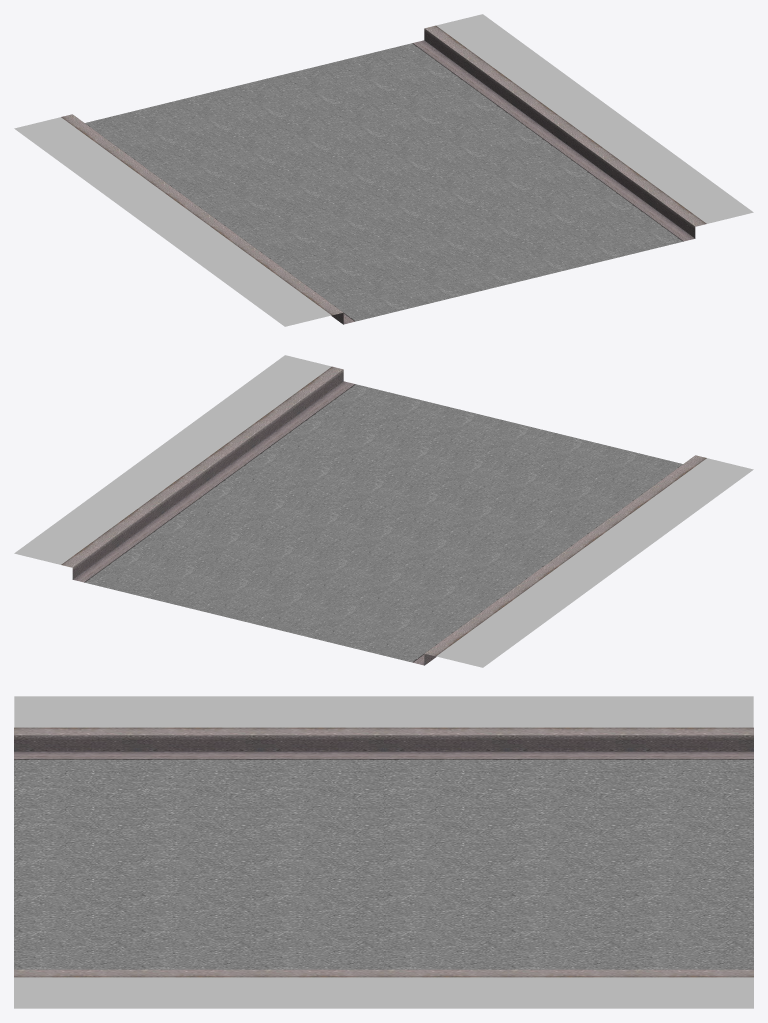
File: roada11.dae
3 renders of one model, top to bottom at view 1: azimuth 30°, elevation 25°; view 2: azimuth 150°, elevation 25°; view 3: azimuth 270°, elevation 25°, orthographic. The views are drawn at different scales.
Visible parts, largest first — view 1: S_Object_001_5, S_Object_001_4, S_Object_001_3, S_Object_001_2, S_Object_001, S_Object_001_6, S_Object_001_1; view 2: S_Object_001_5, S_Object_001_4, S_Object_001_3, S_Object_001_2, S_Object_001, S_Object_001_6, S_Object_001_1; view 3: S_Object_001_5, S_Object_001_4, S_Object_001_3, S_Object_001_2, S_Object_001, S_Object_001_1.
Boxes of the visible parts, x1=… form: S_Object_001_5: x1=87, y1=44, x2=680, y2=320; S_Object_001_4: x1=14, y1=14, x2=753, y2=326; S_Object_001_3: x1=61, y1=25, x2=706, y2=315; S_Object_001_2: x1=331, y1=28, x2=695, y2=324; S_Object_001: x1=343, y1=40, x2=694, y2=324; S_Object_001_6: x1=410, y1=43, x2=683, y2=241; S_Object_001_1: x1=85, y1=122, x2=356, y2=321; S_Object_001_5: x1=87, y1=385, x2=680, y2=661; S_Object_001_4: x1=14, y1=355, x2=753, y2=667; S_Object_001_3: x1=61, y1=366, x2=706, y2=656; S_Object_001_2: x1=72, y1=369, x2=436, y2=665; S_Object_001: x1=73, y1=381, x2=424, y2=665; S_Object_001_6: x1=84, y1=384, x2=357, y2=582; S_Object_001_1: x1=411, y1=463, x2=682, y2=662; S_Object_001_5: x1=14, y1=761, x2=753, y2=969; S_Object_001_4: x1=14, y1=696, x2=753, y2=1008; S_Object_001_3: x1=14, y1=727, x2=753, y2=977; S_Object_001_2: x1=14, y1=735, x2=753, y2=751; S_Object_001: x1=14, y1=751, x2=753, y2=759; S_Object_001_1: x1=14, y1=759, x2=753, y2=760.
Size of the model in its own units: 2 by 0.05 by 2.
